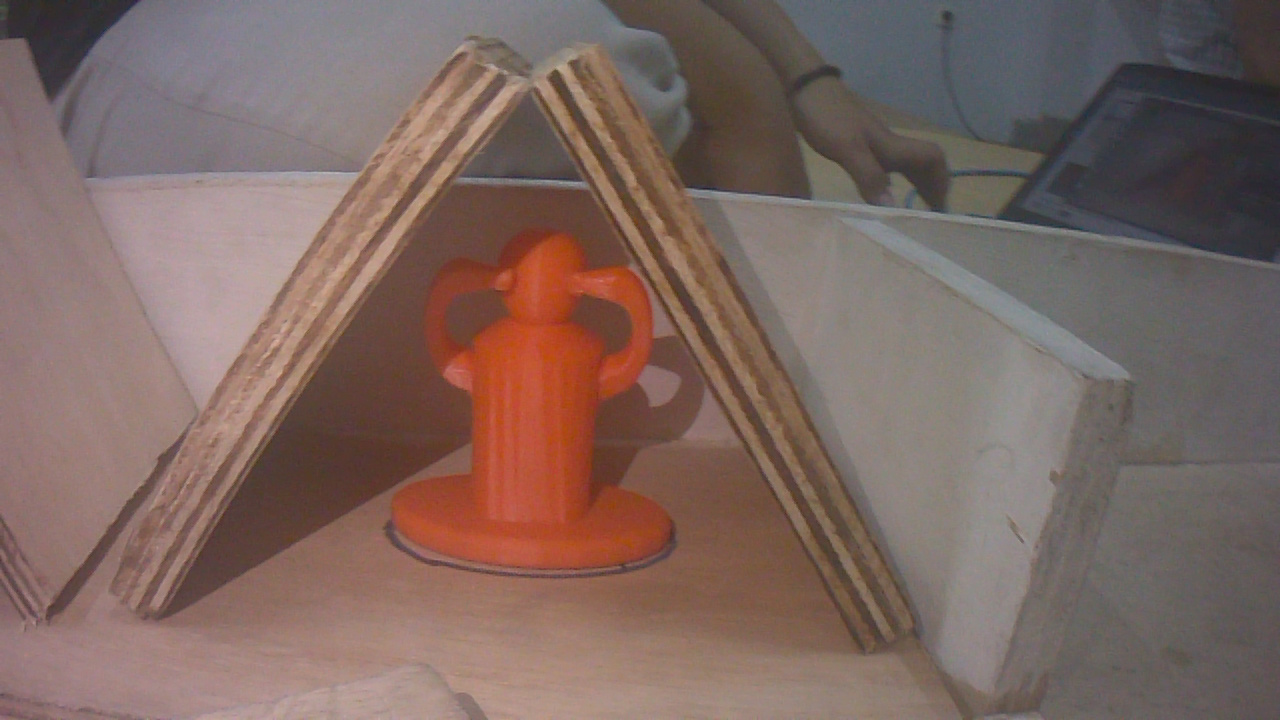real: (402, 221, 666, 579)
